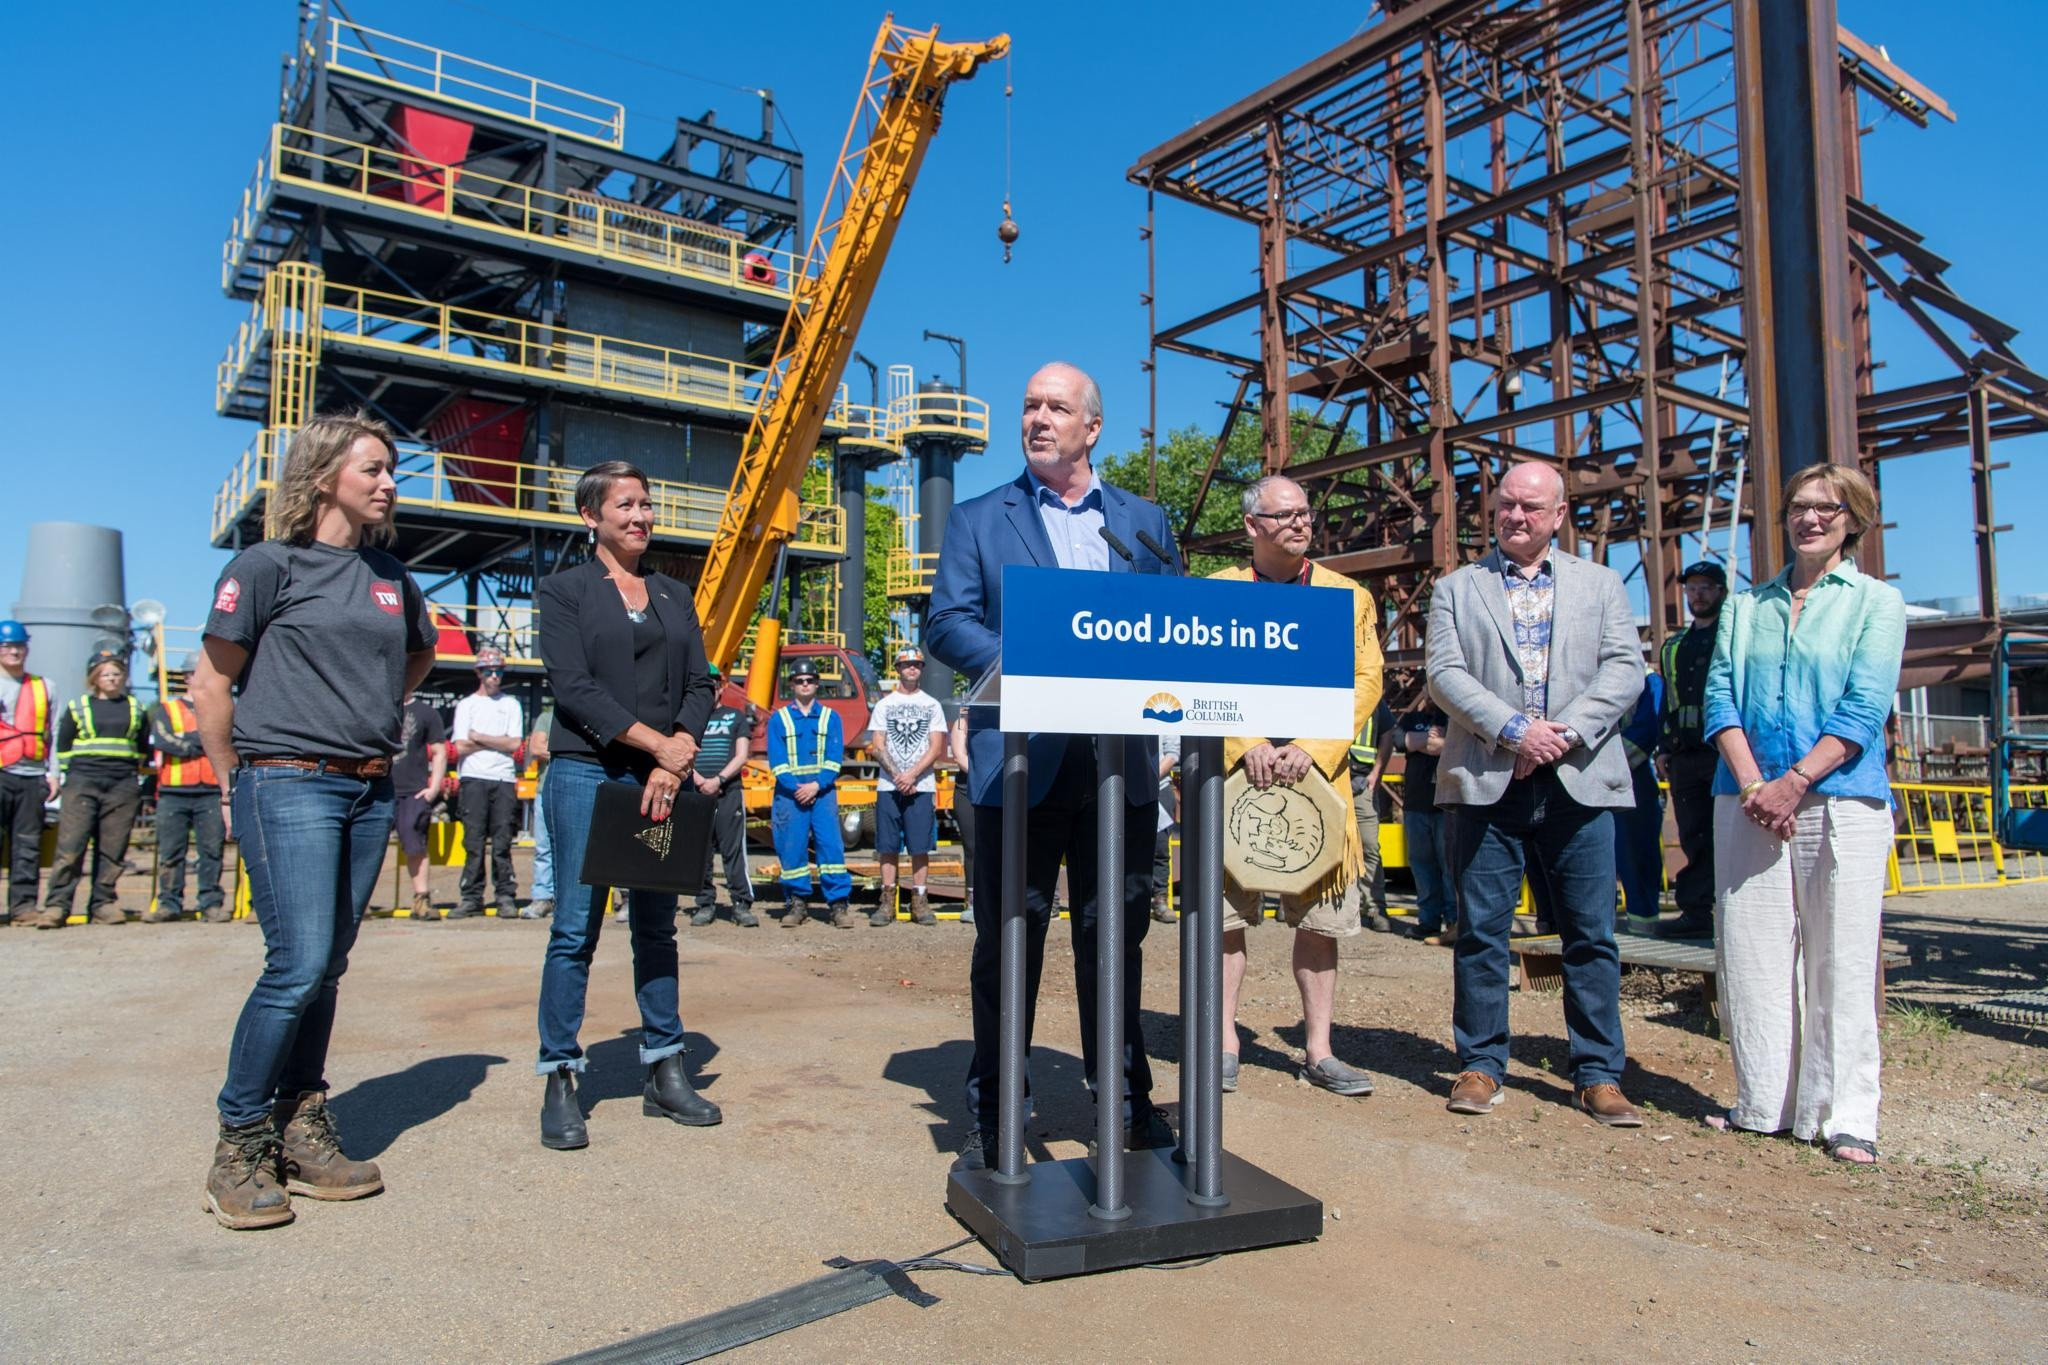blue: (82, 641, 129, 698), (886, 638, 929, 689), (783, 657, 824, 702), (2, 617, 33, 673)
none: (280, 411, 404, 547), (1772, 460, 1881, 573), (1016, 360, 1105, 477), (1482, 454, 1574, 561), (574, 456, 662, 558), (1241, 468, 1320, 573), (1672, 558, 1731, 620)
red: (466, 641, 509, 695)
